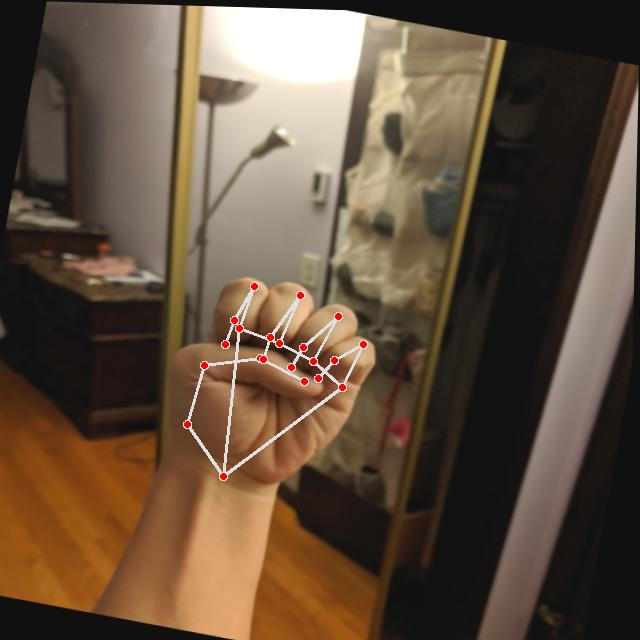E: (142, 255, 394, 508)
